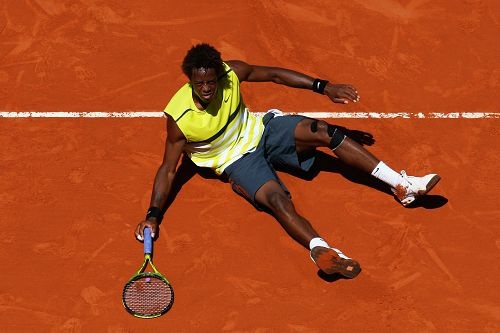falling: (130, 42, 464, 260)
